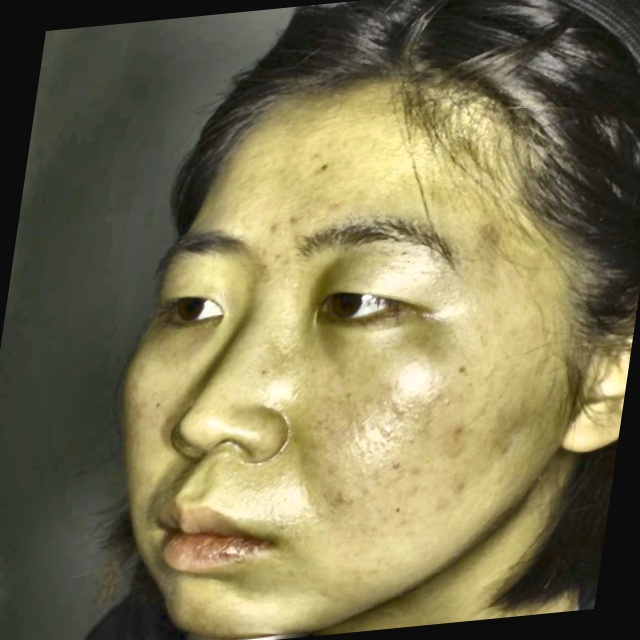comedone: (445, 416, 471, 448)
